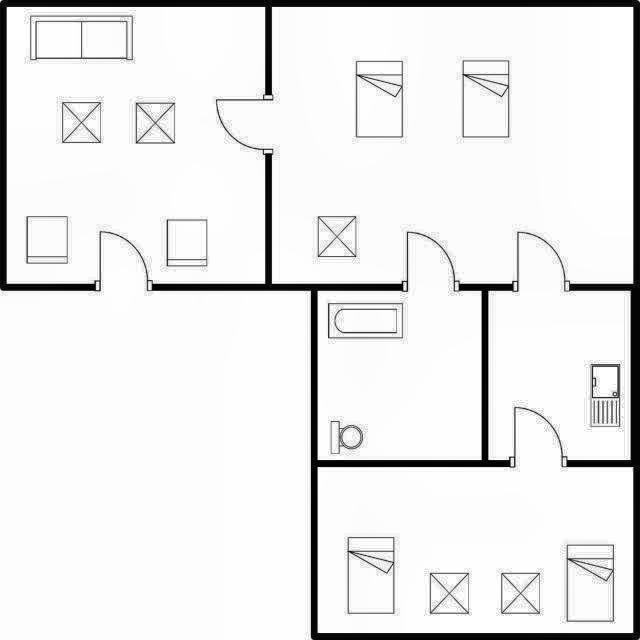room: (272, 7, 633, 284), (7, 7, 265, 284), (319, 468, 632, 632), (317, 292, 482, 460), (488, 290, 631, 460)
